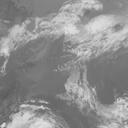cyclone: (45, 21, 112, 99)
